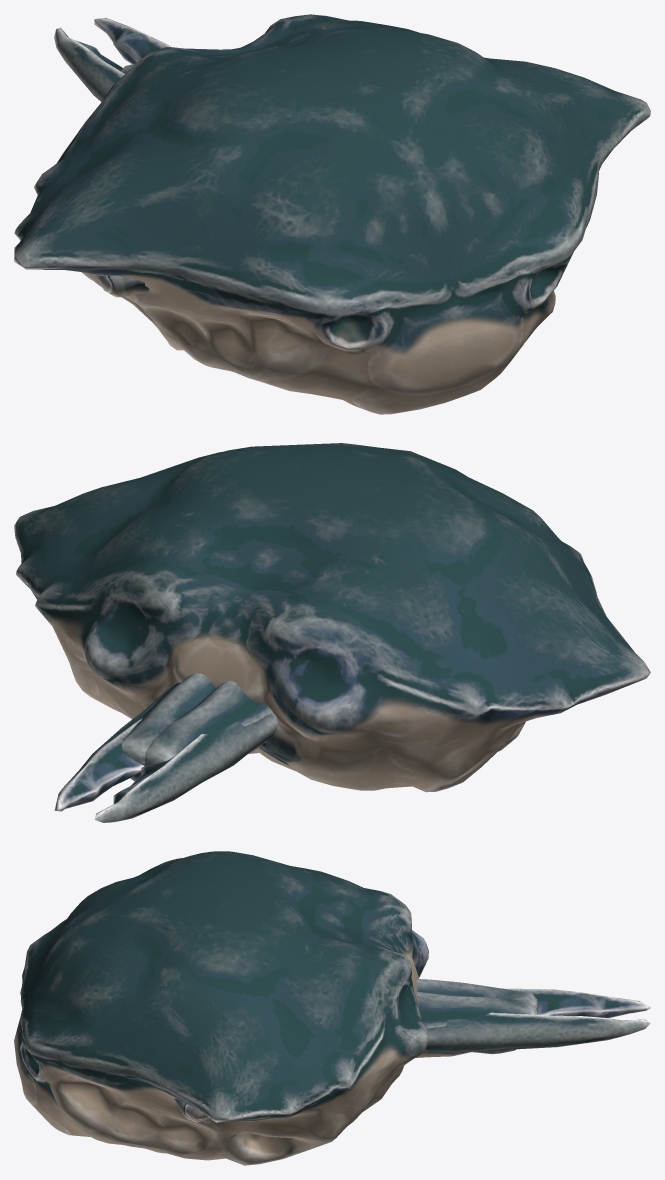
Rendered from Crab.glb.
3 views of the same model, one above another, from view 1: azimuth 30°, elevation 25°; view 2: azimuth 150°, elevation 25°; view 3: azimuth 270°, elevation 25° (orthographic). The views are drawn at different scales.
Visible parts, largest first — view 1: Crab_Body, Claw_R, Claw_L, Leg_L_1; view 2: Crab_Body, Claw_R, Arm_L, Claw_L, Arm_R; view 3: Crab_Body, Claw_L, Arm_R, Claw_R, Arm_L.
Part boxes in pixels (<box>): Crab_Body: <box>14,14,650,414</box>; Claw_R: <box>54,27,124,101</box>; Claw_L: <box>94,18,170,64</box>; Leg_L_1: <box>96,275,148,297</box>; Crab_Body: <box>14,443,650,792</box>; Claw_R: <box>94,712,278,822</box>; Arm_L: <box>144,681,272,765</box>; Claw_L: <box>54,688,168,811</box>; Arm_R: <box>121,673,267,781</box>; Crab_Body: <box>14,851,428,1165</box>; Claw_L: <box>425,1012,650,1052</box>; Arm_R: <box>415,992,537,1057</box>; Claw_R: <box>501,988,650,1017</box>; Arm_L: <box>416,979,537,1011</box>.
Bounding box in the file's own units: 22.54 × 9.86 × 23.68.
1 material, 1 textured.
